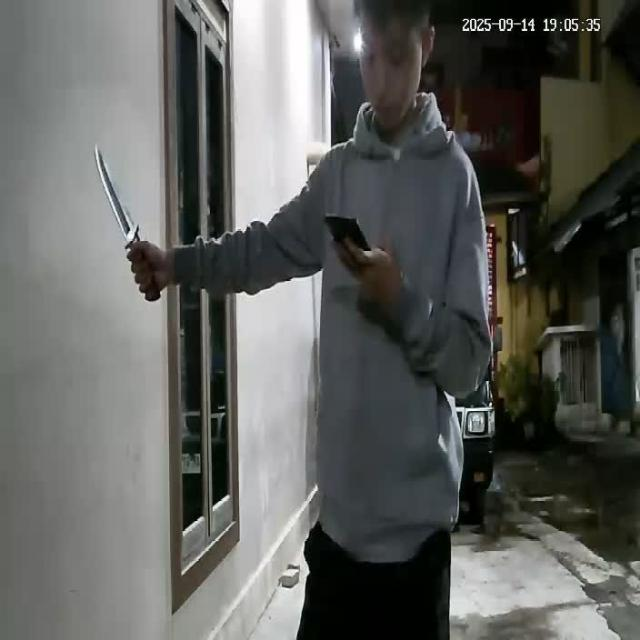senjata_tajam: (91, 138, 144, 249)
